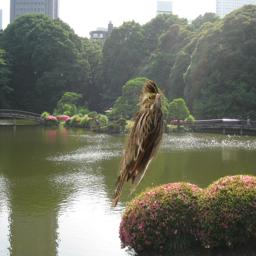Sparrow: (110, 80, 165, 210)
